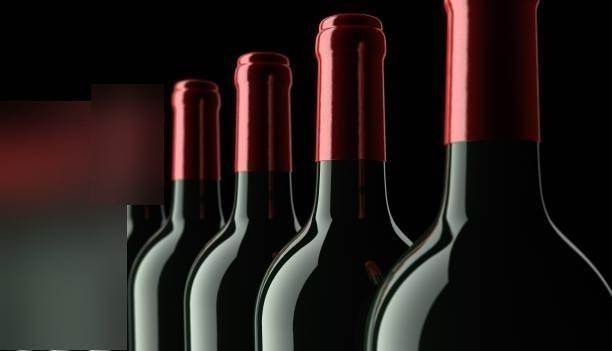bottle-glass: (364, 0, 612, 351), (254, 9, 428, 350), (192, 46, 324, 351), (130, 76, 224, 351)
